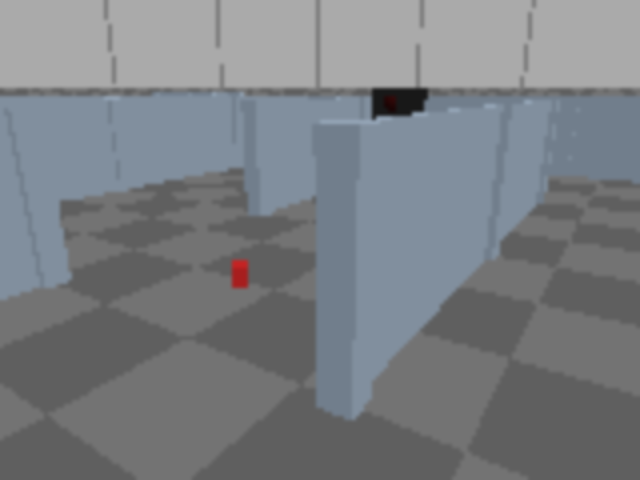puck: (230, 261, 250, 288)
